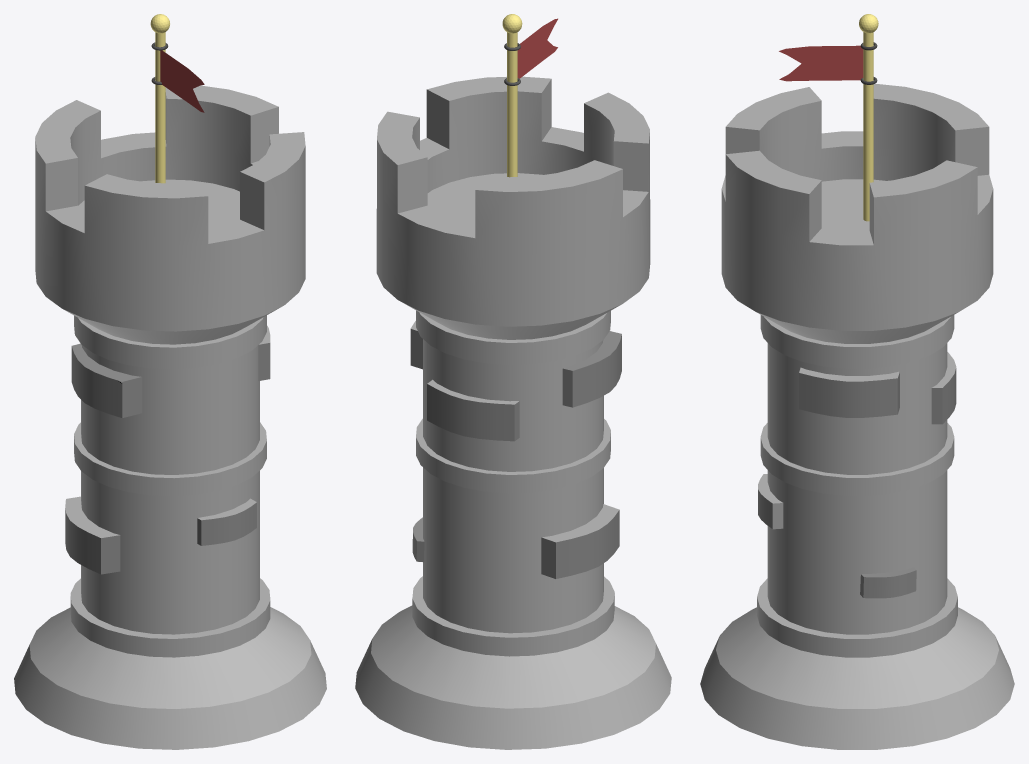
File: tower.fbx
3 renders of one model, left to right at view 1: azimuth 30°, elevation 25°; view 2: azimuth 150°, elevation 25°; view 3: azimuth 270°, elevation 25°, orthographic.
Visible parts, largest first — view 1: tour; view 2: tour; view 3: tour.
Boxes of the visible parts, x1,y1,x2,y2 form: tour: [14, 14, 326, 749]; tour: [355, 14, 671, 749]; tour: [700, 14, 1014, 749].
Size of the model in its own units: 348 by 819 by 350.
